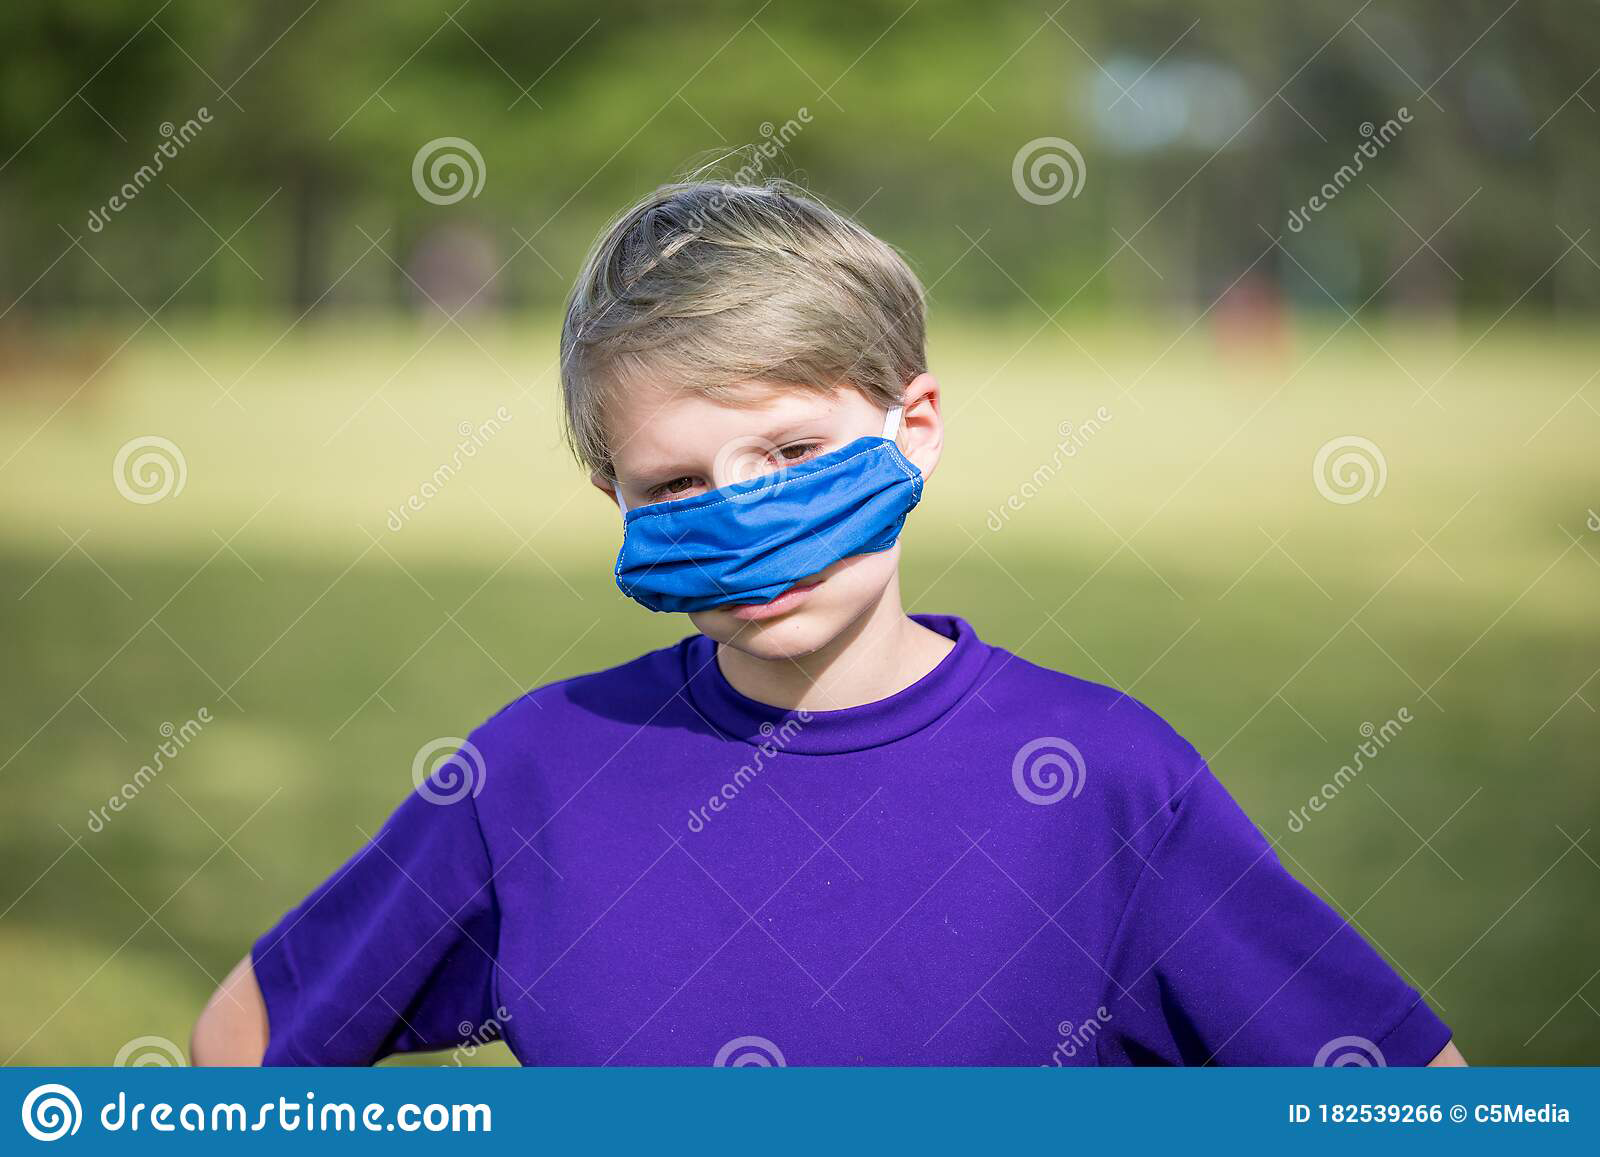mask_weared_incorrect: (618, 397, 925, 667)
